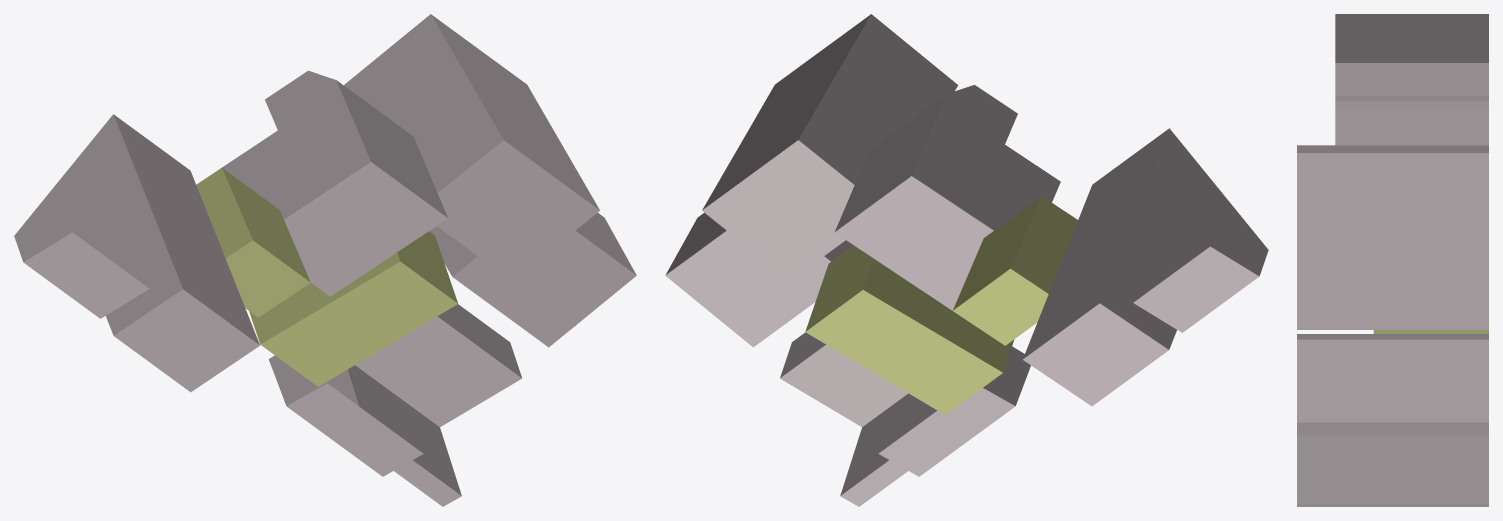
The picture shows the model from 3 angles, left to right: view 1: azimuth 30°, elevation 25°; view 2: azimuth 150°, elevation 25°; view 3: azimuth 270°, elevation 25°; orthographic projection.
Visible parts, largest first — view 1: 0_1_3_2_2_1_2_3_1; view 2: 0_1_3_2_2_1_2_3_1; view 3: 0_1_3_2_2_1_2_3_1.
Part boxes in pixels (box(x1,y1,x2,y2)): 0_1_3_2_2_1_2_3_1: box(14, 14, 636, 506); 0_1_3_2_2_1_2_3_1: box(665, 14, 1268, 506); 0_1_3_2_2_1_2_3_1: box(1297, 14, 1488, 506).
Size of the model in its own units: 47.25 by 34.47 by 15.
